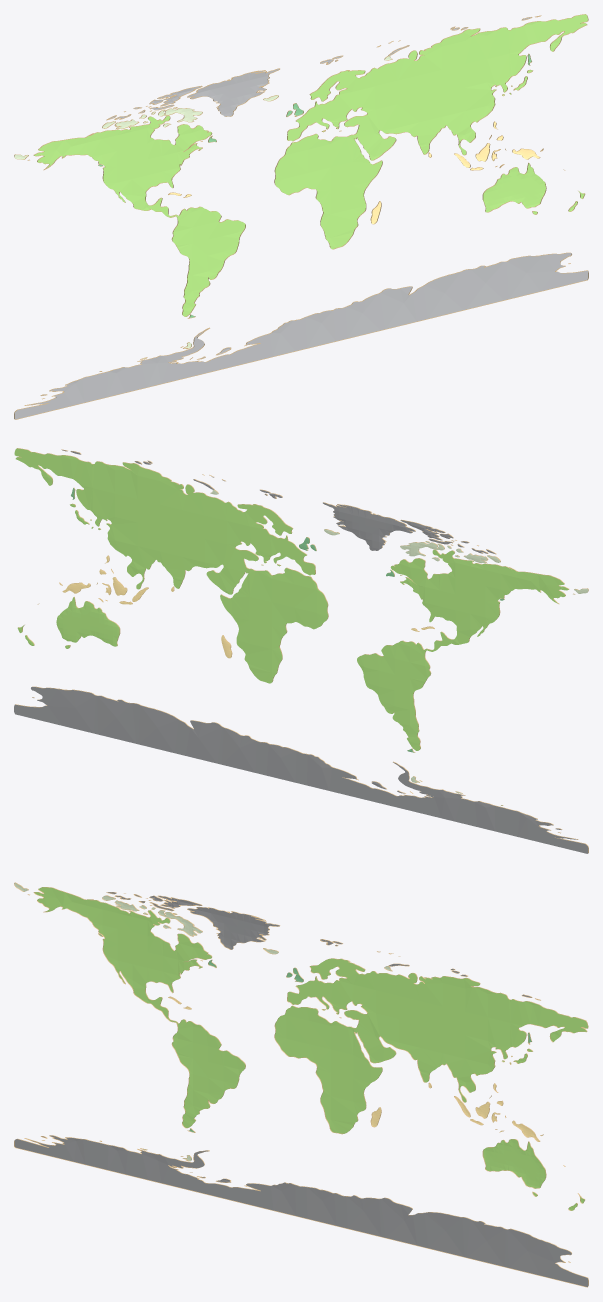
File: WorldMap_LowPoly.fbx
The picture shows the model from 3 angles, top to bottom: view 1: azimuth 30°, elevation 25°; view 2: azimuth 150°, elevation 25°; view 3: azimuth 330°, elevation 25°; orthographic projection.
Parts seen in each view (by area): view 1: WorldMap_LowPoly; view 2: WorldMap_LowPoly; view 3: WorldMap_LowPoly.
Boxes of the visible parts, x1,y1,x2,y2 form: WorldMap_LowPoly: (14,14,588,419); WorldMap_LowPoly: (14,448,588,853); WorldMap_LowPoly: (14,882,588,1287).
Size of the model in its own units: 7920 by 3819 by 15.6.
